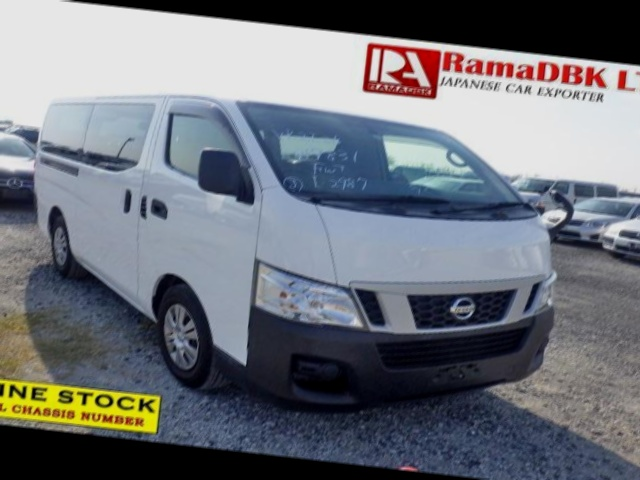van: (6, 78, 580, 412)
